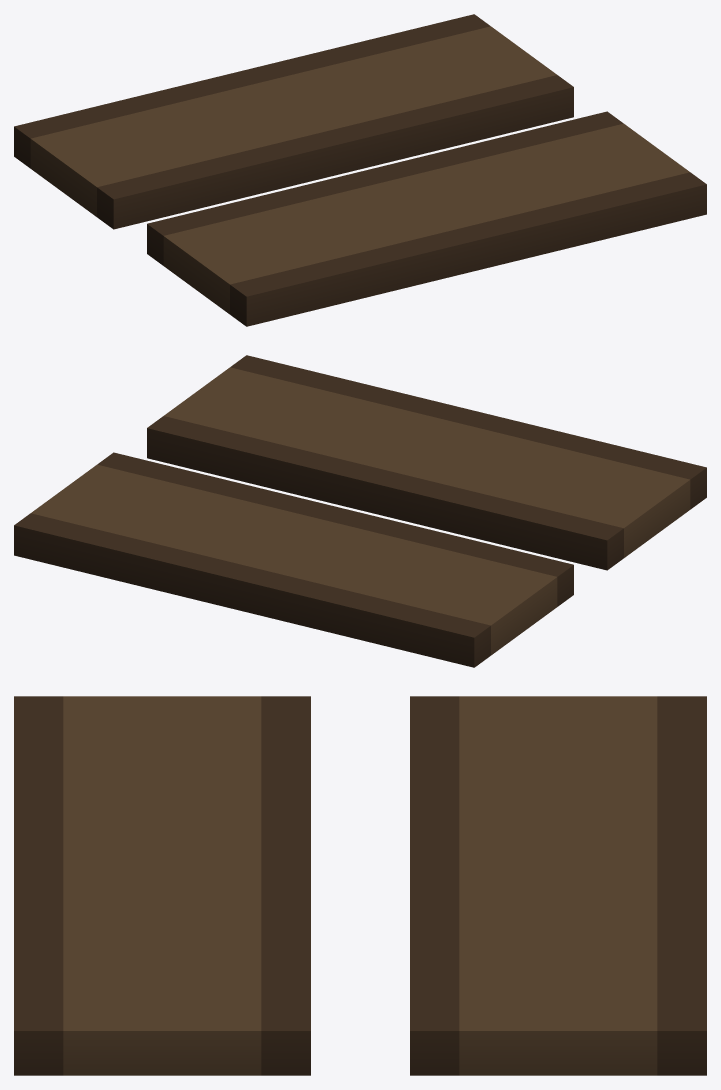
File: tilled_bare.glb
3 renders of one model, top to bottom at view 1: azimuth 30°, elevation 25°; view 2: azimuth 150°, elevation 25°; view 3: azimuth 270°, elevation 25°, orthographic. The views are drawn at different scales.
Visible parts, largest first — view 1: VoxelVisual; view 2: VoxelVisual; view 3: VoxelVisual.
Boxes of the visible parts, left/top/right/bottom form: VoxelVisual: left=14, top=14, right=706, bottom=326; VoxelVisual: left=14, top=355, right=706, bottom=667; VoxelVisual: left=14, top=696, right=706, bottom=1075.
Size of what is drawn, in the model's own units: 1 by 0.0625 by 0.875.
